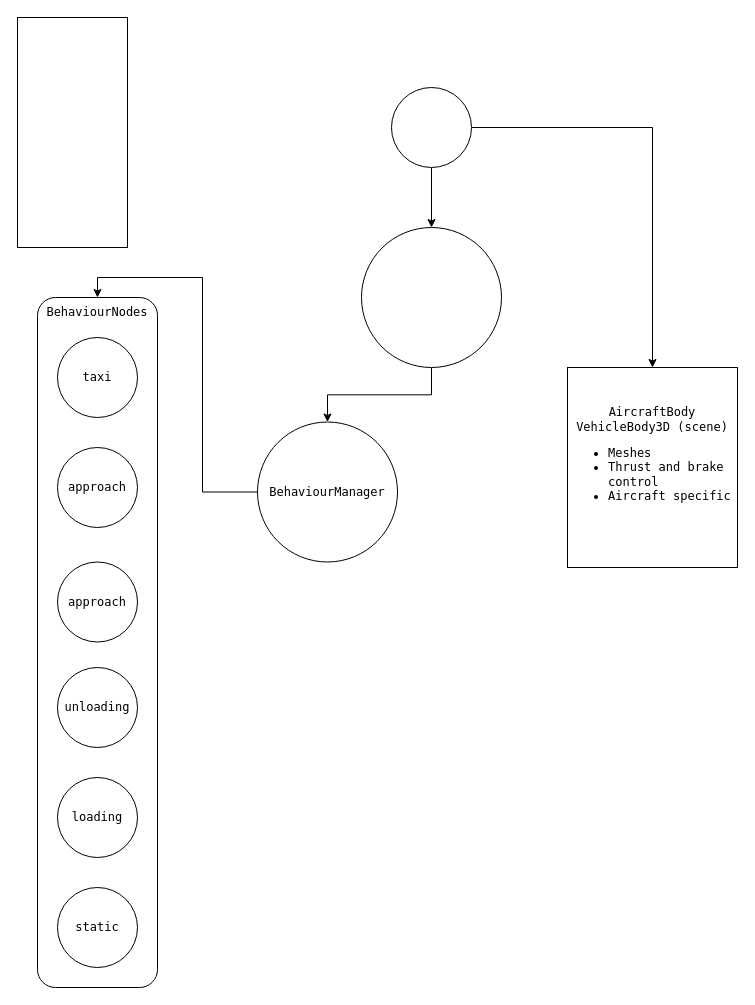
This 755x1005 diagram has some shape labels left out. The shapes that lost their labels are listed below. From the top down, each one's box as (x1, y1, x2, y2) in pixels, then its label:
(16, 16, 128, 248): Requirements:
(390, 86, 472, 168): Aircraft Node3D
(360, 226, 502, 368): Communicator
